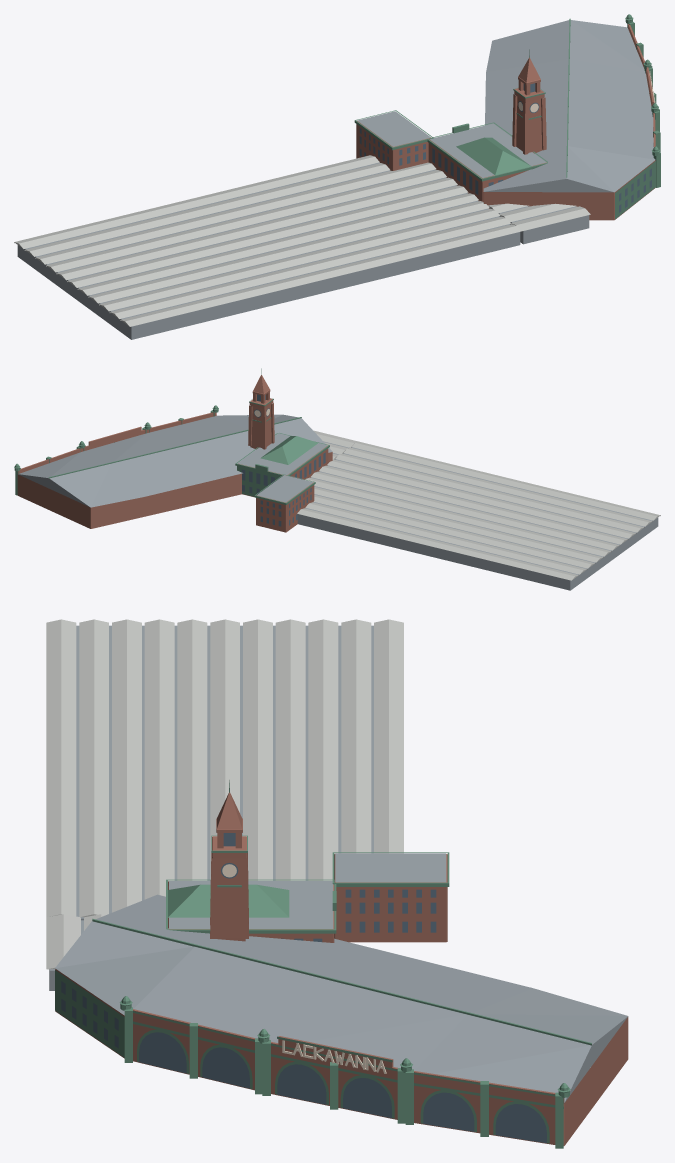
Rendered from nyc-hoboken-terminal.glb.
The picture shows the model from 3 angles, top to bottom: view 1: azimuth 30°, elevation 25°; view 2: azimuth 150°, elevation 25°; view 3: azimuth 270°, elevation 25°; orthographic projection. The views are drawn at different scales.
Parts seen in each view (by area): view 1: Hoboken Terminal; view 2: Hoboken Terminal; view 3: Hoboken Terminal.
Boxes of the visible parts, bbox=[...] form: Hoboken Terminal: bbox=[14, 14, 660, 339]; Hoboken Terminal: bbox=[14, 368, 660, 590]; Hoboken Terminal: bbox=[46, 619, 628, 1148].
Bounding box in the file's own units: 340 × 66 × 166.
